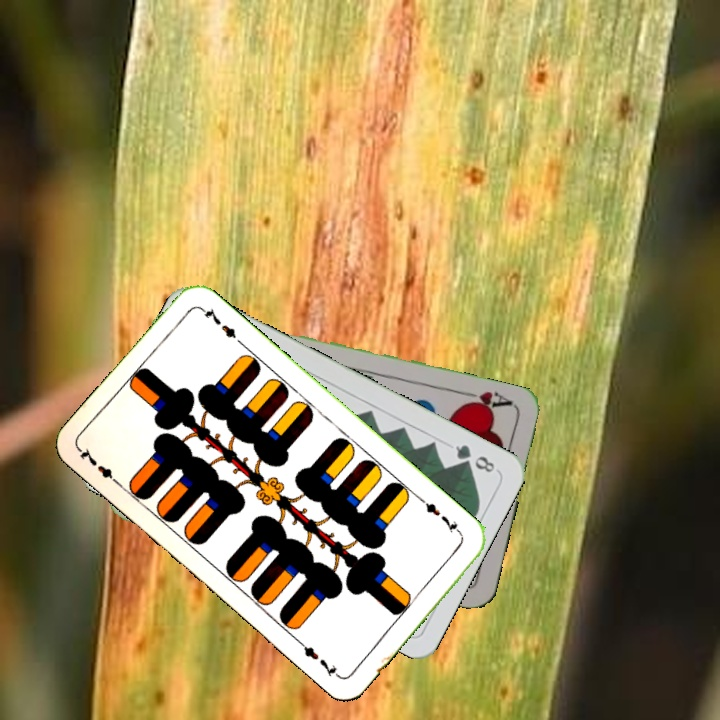E7: (76, 444, 124, 489), (416, 495, 465, 539)
G8: (451, 440, 498, 475)
HA: (457, 387, 515, 414)
